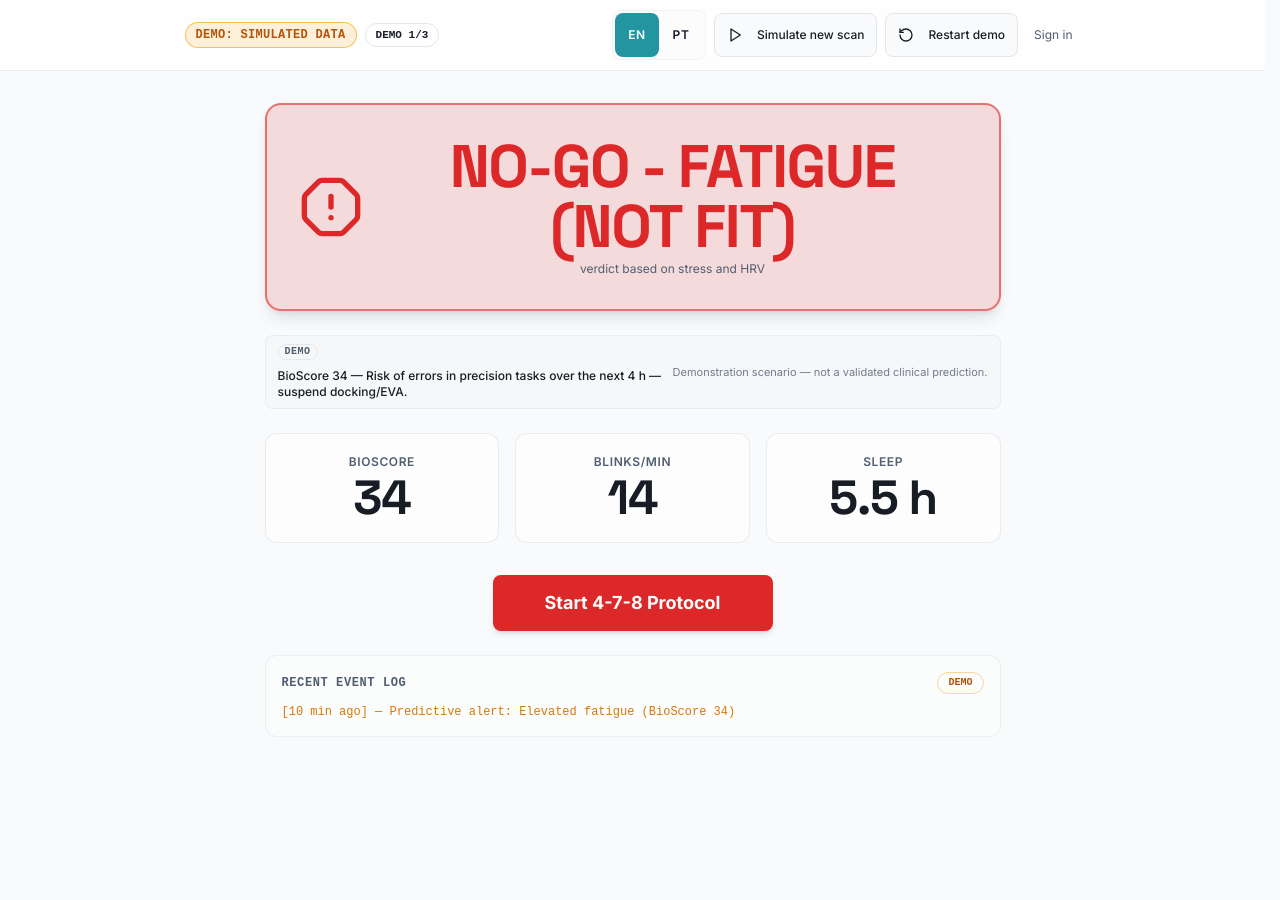
Scenario: Demo Page (/demo) - Demonstração Pública sem Login e sem Rede › Fluxos em Inglês (initialLang="en") › fluxo guiado completo em inglês: Etapa 1 -> Protocol -> Etapa 2 -> Scan -> Etapa 3 -> Start Shift -> Reset
Expected: the text "NO-GO - FATIGUE (NOT FIT)" is shown, x1=450 y1=128 x2=895 y2=265
Expected: the text "34" is shown, x1=353 y1=474 x2=410 y2=522
Act 1: Start 4-7-8 Protocol
Click the button "Start 4-7-8 Protocol".
click(632, 603)  # box x1=492 y1=575 x2=772 y2=631
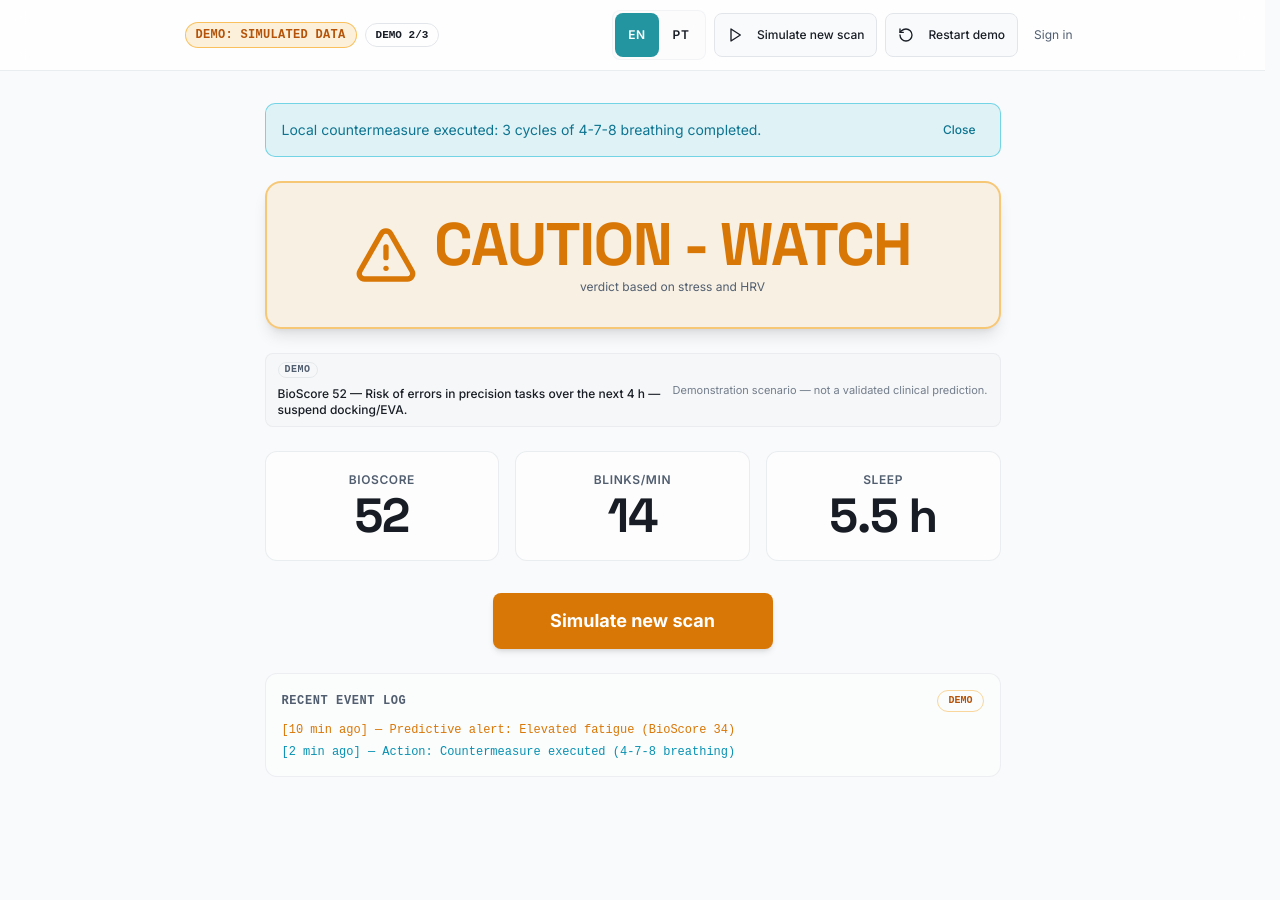
Expected: the text "CAUTION - WATCH" is shown, x1=434 y1=215 x2=911 y2=275
Expected: the text "52" is shown, x1=355 y1=492 x2=409 y2=540
Expected: the text "Local countermeasure executed: 3 cycles of 4-7-8 breathing completed." is shown, x1=282 y1=120 x2=761 y2=140
Fechar aviso
Click the button "Close".
click(959, 130)  # box x1=935 y1=116 x2=984 y2=144
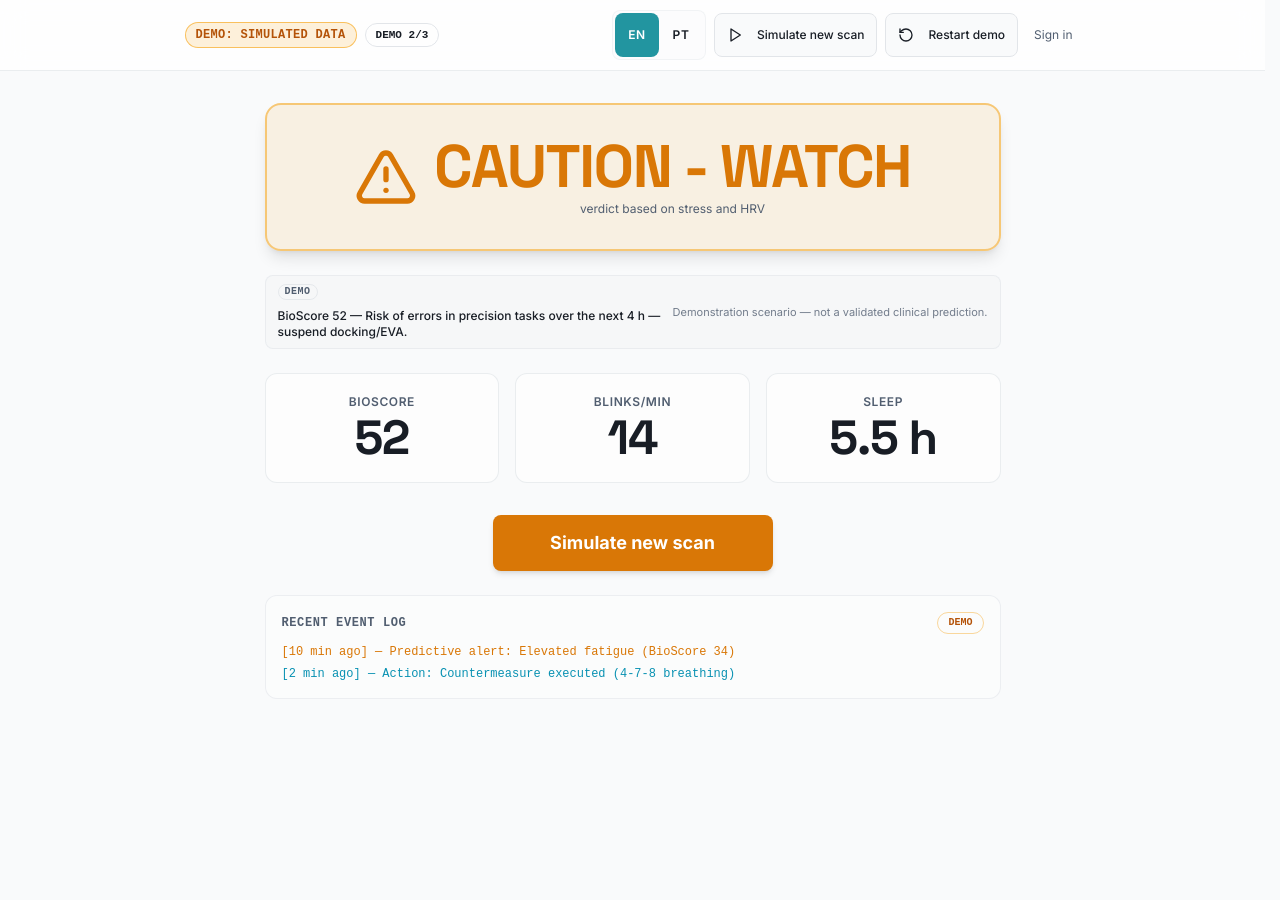
Expected: the text "Local countermeasure executed: 3 cycles of 4-7-8 breathing completed." is gone
Act 2: Simulate new scan
Click the button "Simulate new scan" in the row of "Sign in".
click(796, 35)  # box x1=714 y1=13 x2=878 y2=57
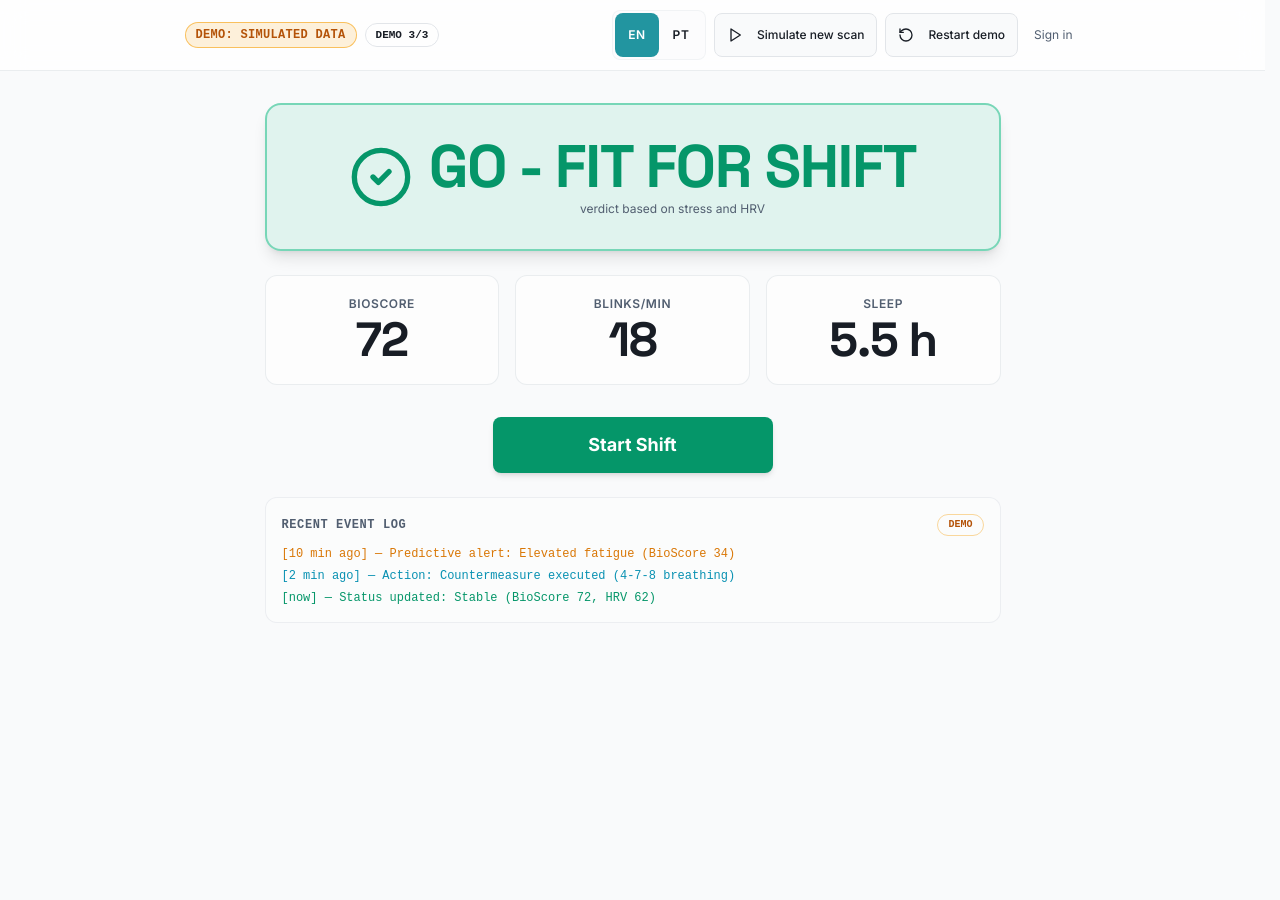
Expected: the text "GO - FIT FOR SHIFT" is shown, x1=429 y1=137 x2=916 y2=197
Expected: the text "72" is shown, x1=356 y1=316 x2=408 y2=364
Expected: the text "18" is shown, x1=608 y1=316 x2=656 y2=364
Act 3: Start Shift
Click the button "Start Shift".
click(632, 445)  # box x1=492 y1=417 x2=772 y2=473
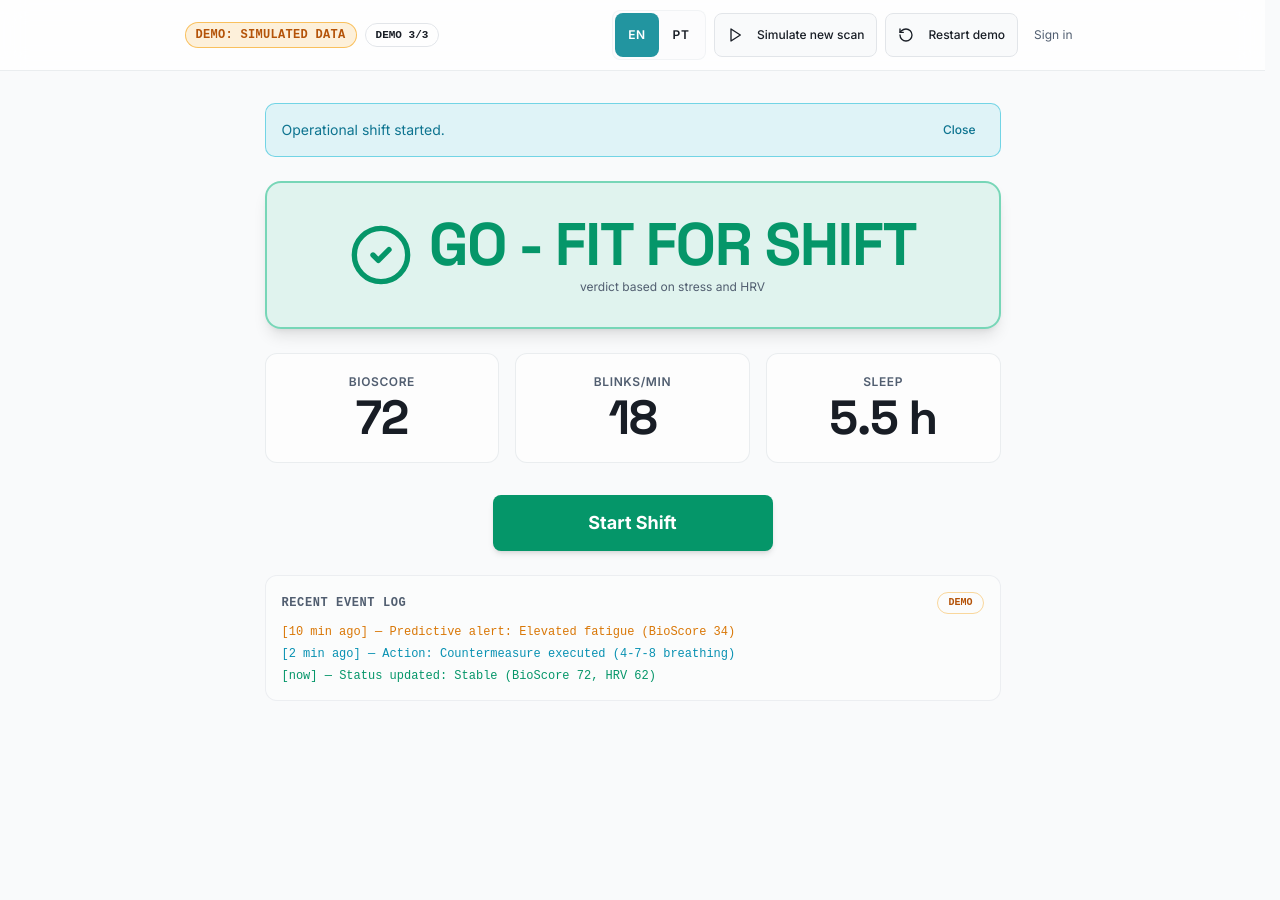
Expected: the text "Operational shift started." is shown, x1=282 y1=120 x2=445 y2=140
Act 4: Restart demo
Click the button "Restart demo".
click(952, 35)  # box x1=886 y1=13 x2=1018 y2=57
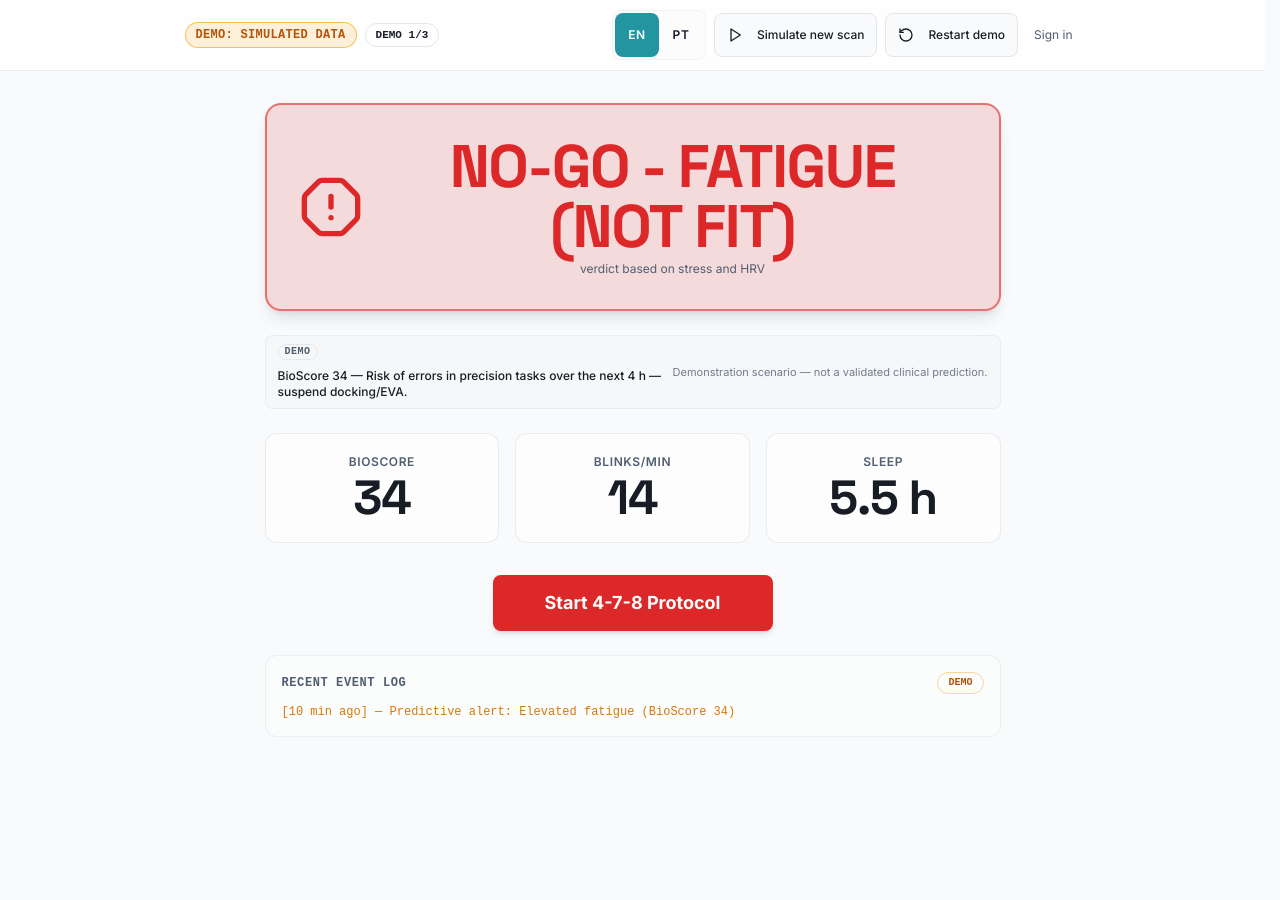
Expected: the text "NO-GO - FATIGUE (NOT FIT)" is shown, x1=450 y1=128 x2=895 y2=265
Expected: the text "34" is shown, x1=353 y1=474 x2=410 y2=522
Expected: the text "14" is shown, x1=608 y1=474 x2=657 y2=522
